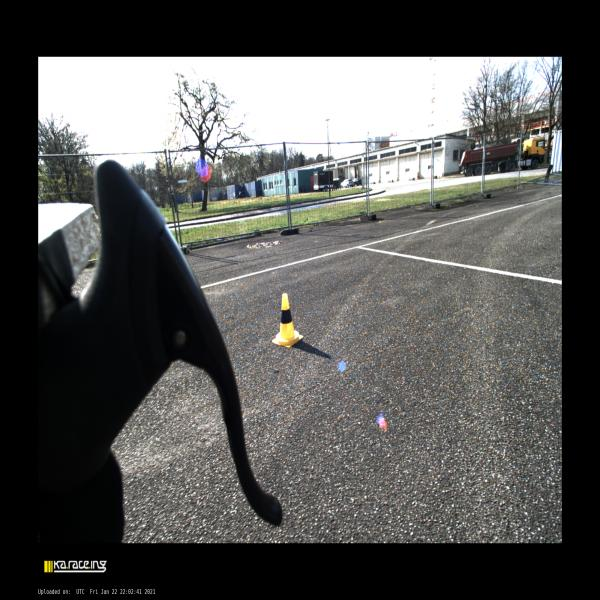yellow_cone: (272, 294, 303, 348)
